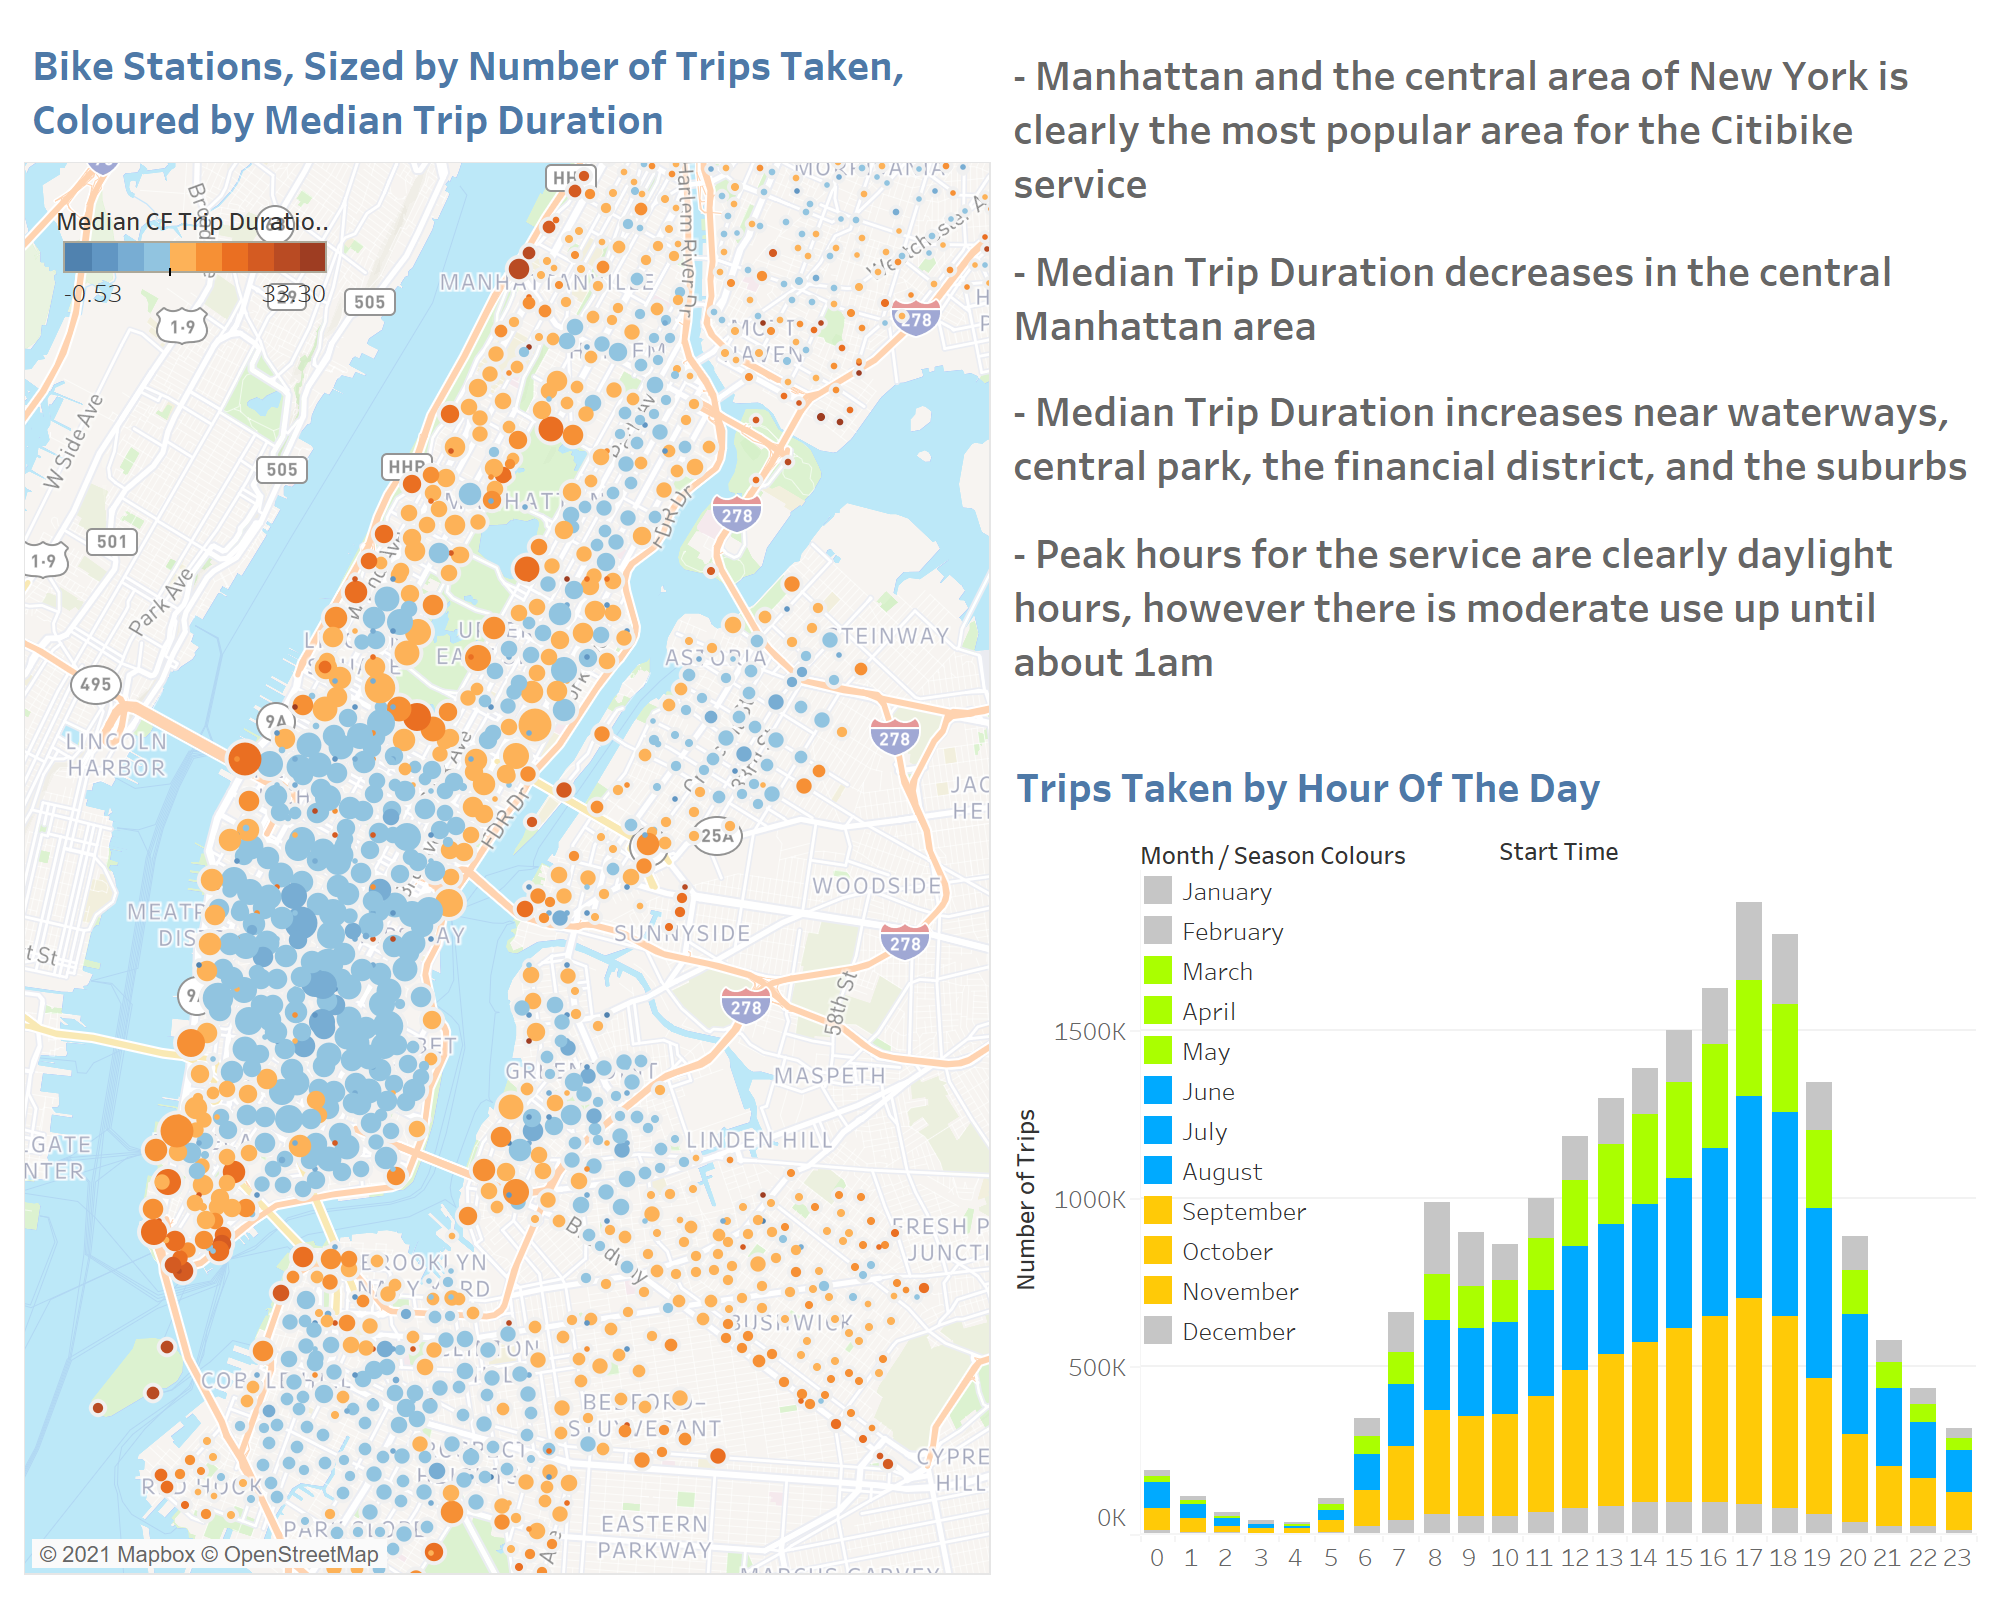

The dashboard page shown, as its layout file describes it:
{"tool":"tableau","page":{"name":"Trip Data Analysis","canvas":[1000,800],"ordinal":5},"visuals":[{"type":"worksheet","title":"Map - Start Stations, Sized by Trip Count, Coloured by Median Duration","mark":"Automatic","rows":["Start Station Latitude"],"cols":["Start Station Longitude"],"box":[8,8,492,784]},{"type":"text","box":[500,8,492,361]},{"type":"legend","title":"Map - Start Stations, Sized by Trip Count, Coloured by Median Duration","param":"[federated.03l54cg1rz8a6t15xwi4j1t894sv].[med:Calculation_89509104949153792:qk]","box":[28,98,140,76]},{"type":"worksheet","title":"Trip Data  - Peak Hours of Trips Taken","mark":"Bar","rows":["Trip Duration"],"cols":["Start Time"],"box":[500,369,492,423]},{"type":"legend","title":"Trip Data  - Peak Hours of Trips Taken","param":"[federated.03l54cg1rz8a6t15xwi4j1t894sv].[mn:Start Time:ok]","box":[569,417,140,258]}]}

Visuals, with their boxes in screenshot pixels (x1, y1, x2, y2), scaled from the page's 1000x800 canvas onto the 2000x1600 screenshot:
"Map - Start Stations, Sized by Trip Count, Coloured by Median Duration" worksheet: BBox(16, 16, 1000, 1584)
text: BBox(1000, 16, 1984, 738)
"Map - Start Stations, Sized by Trip Count, Coloured by Median Duration" legend: BBox(56, 196, 336, 348)
"Trip Data  - Peak Hours of Trips Taken" worksheet (Bar marks): BBox(1000, 738, 1984, 1584)
"Trip Data  - Peak Hours of Trips Taken" legend: BBox(1138, 834, 1418, 1350)
